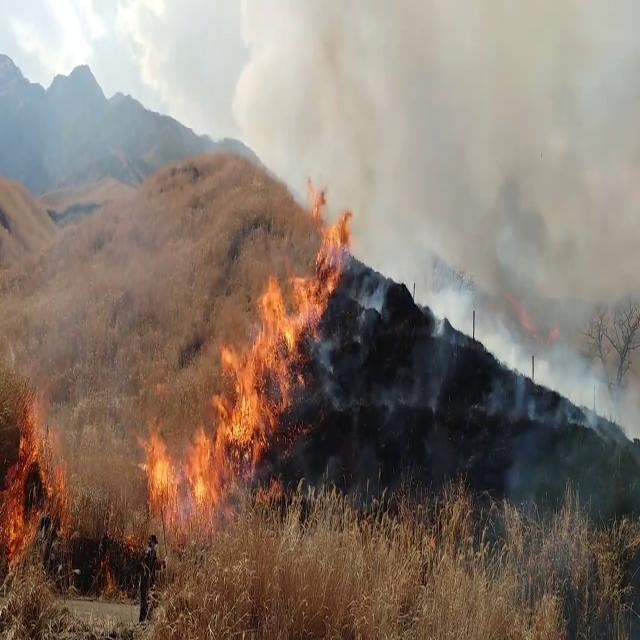Fire: (208, 263, 306, 462), (0, 366, 68, 558), (282, 194, 363, 342), (138, 418, 220, 522)
Smoke: (378, 0, 636, 423)
